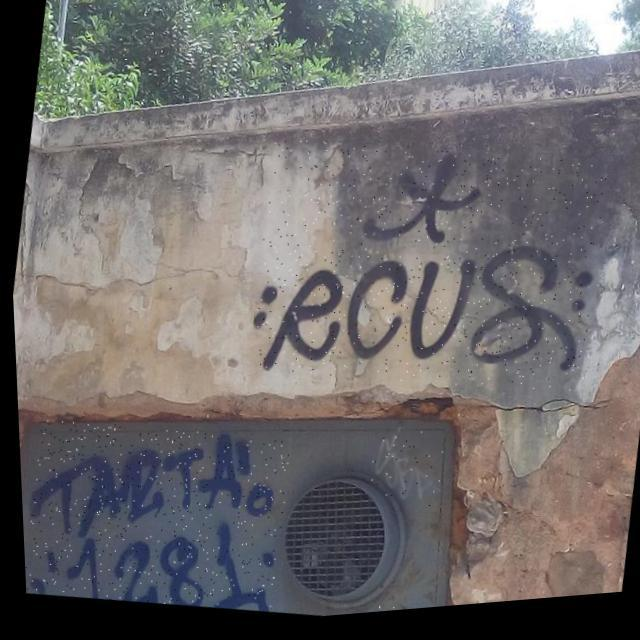-: (237, 121, 614, 426), (15, 404, 293, 632), (361, 429, 444, 518), (367, 607, 416, 618)
